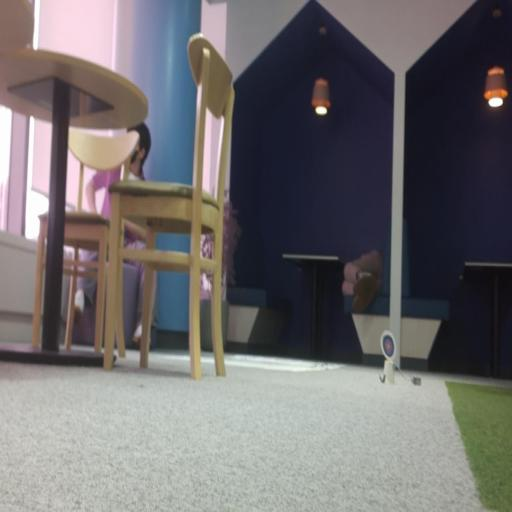target: (380, 331, 396, 363)
